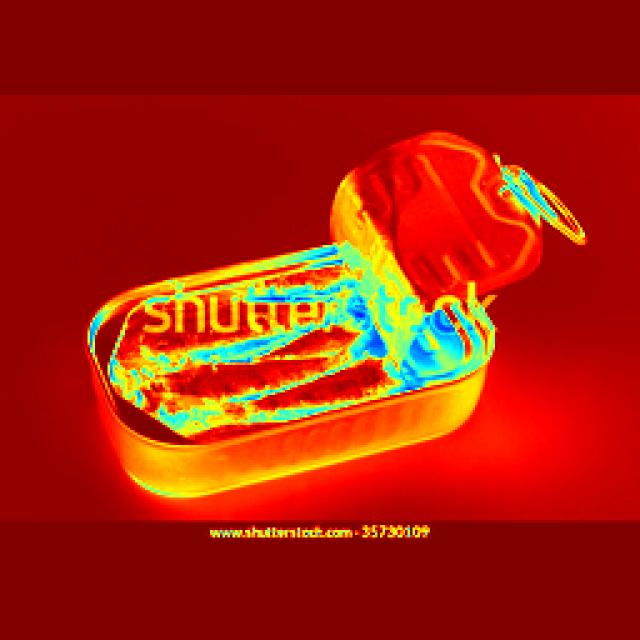Aluminium Food Cans: (93, 153, 543, 474)
